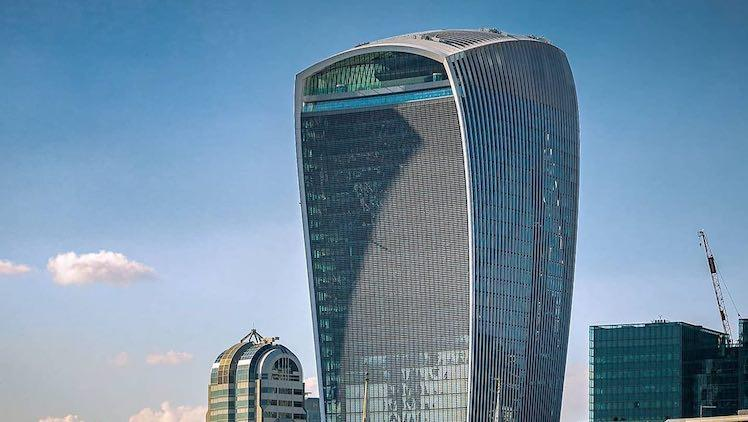Walkie talkie: (289, 23, 589, 421)
